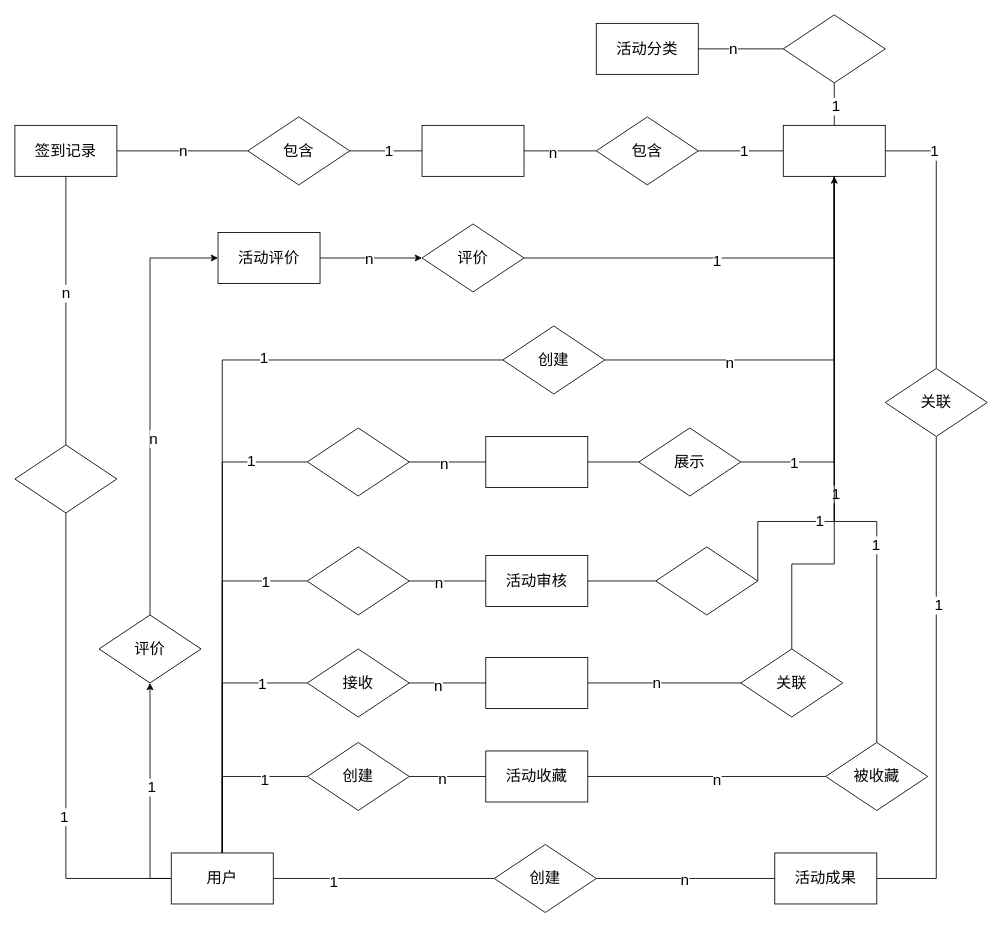
Image size: 1002x927. Some labels were removed from this diagram. The centre of each missing label's shape, as x and y in pixels:
"分类" belongs at [833,48].
"反馈" belongs at [706,580].
"发表" belongs at [357,461].
"执行" belongs at [357,580].
"活动" belongs at [833,150].
"活动报名" belongs at [472,150].
"签到" belongs at [65,478].
"系统通知" belongs at [536,682].
"评论" belongs at [536,461].
